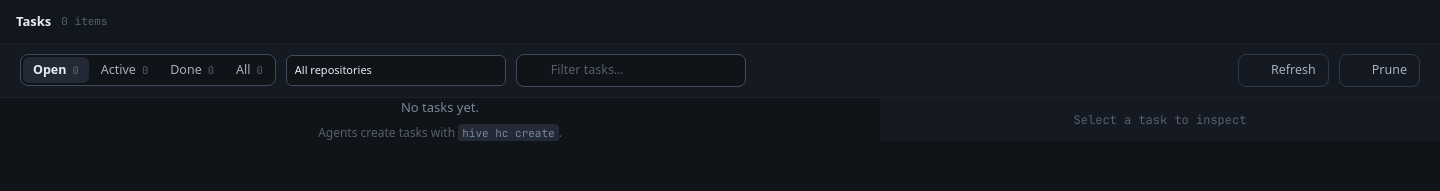
Test: TasksView › surfaces a dry-run failure in a banner, since it never opens the confirm dialog
Click the button with test id "tasks-prune".
click(1379, 70)  # box [1339, 54, 1420, 87]
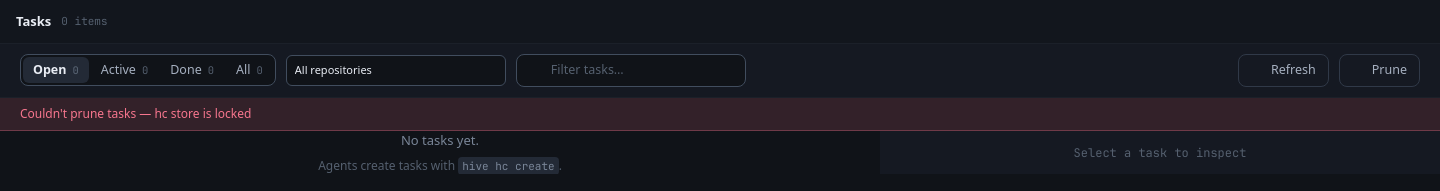
Expected: the text with test id "tasks-prune-error" shows "hc store is locked", [20, 105, 251, 122]
